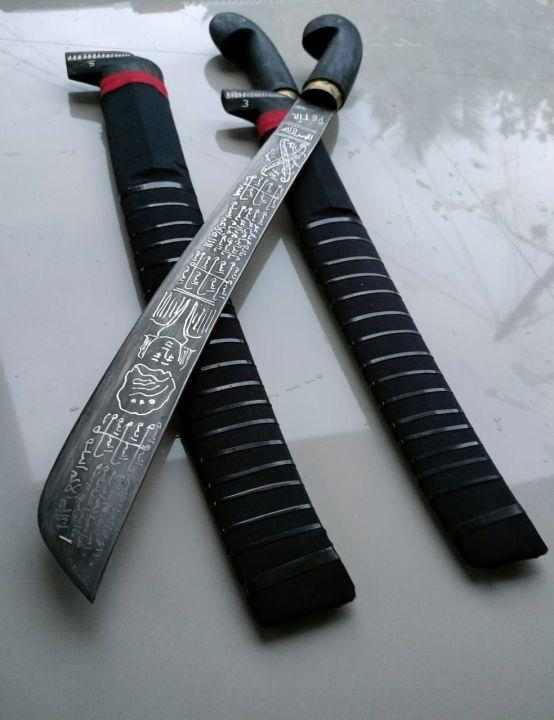facao: (38, 14, 364, 602)
